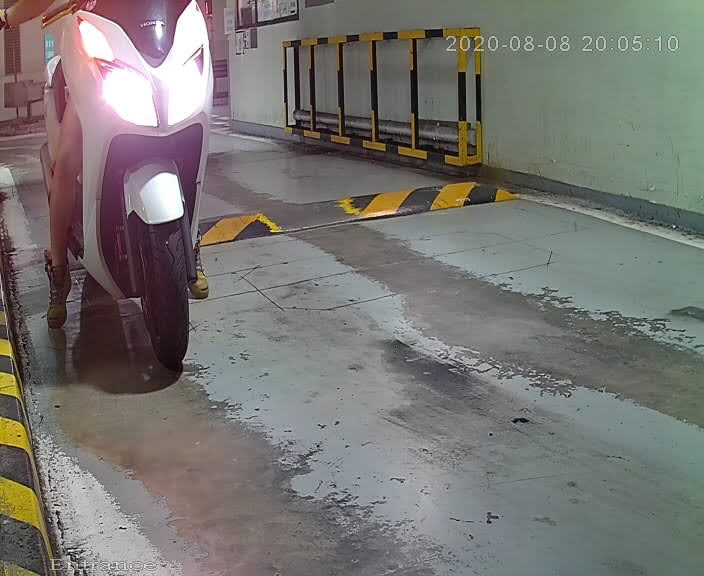motorcycle: (2, 1, 246, 368)
